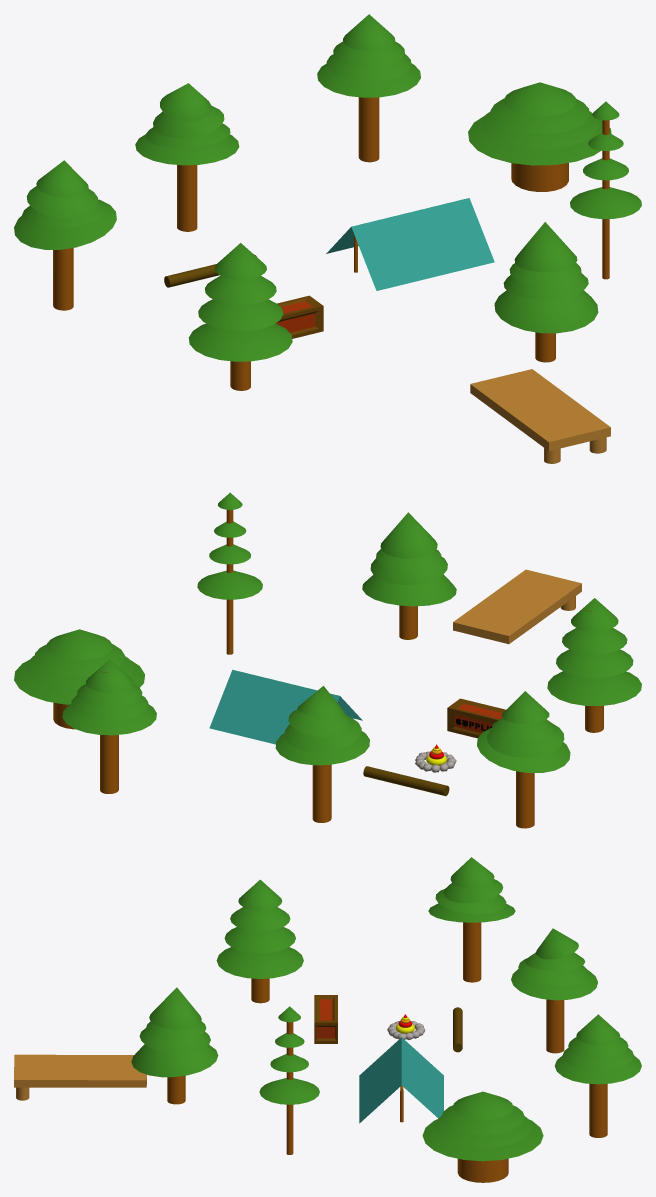
File: setting.fbx
3 views of the same model, one above another, from view 1: azimuth 30°, elevation 25°; view 2: azimuth 150°, elevation 25°; view 3: azimuth 270°, elevation 25° (orthographic). The views are drawn at different scales.
Visible parts, largest first — view 1: tentSide1, dock, leaf13, leaf23, leaf10, leaf20, leaef12, leaef8, leaf9, leaf14, leaf16, leaf8 (+23 smaller); view 2: dock, tentSide2, leaf23, leaf13, leaef12, leaf14, leaf20, leaf8, leaf11, crate, leaf1, leaf16 (+24 smaller); view 3: dock, leaf23, tentSide1, tentSide2, leaf13, leaf10, leaef12, leaef8, leaf9, leaf14, leaf16, leaf8 (+25 smaller).
Part boxes in pixels (bbox=[...]): tentSide1: bbox=[351, 198, 494, 290]; dock: bbox=[470, 369, 610, 450]; leaf13: bbox=[494, 290, 598, 333]; leaf23: bbox=[188, 323, 292, 361]; leaf10: bbox=[468, 115, 611, 165]; leaf20: bbox=[14, 199, 116, 249]; leaef12: bbox=[198, 299, 283, 330]; leaef8: bbox=[481, 111, 598, 149]; leaf9: bbox=[490, 98, 589, 134]; leaf14: bbox=[514, 222, 577, 272]; leaf16: bbox=[135, 134, 239, 165]; leaf8: bbox=[317, 63, 420, 97]; dock: bbox=[453, 569, 581, 644]; tentSide2: bbox=[209, 669, 339, 744]; leaf23: bbox=[547, 671, 641, 705]; leaf13: bbox=[362, 574, 456, 606]; leaef12: bbox=[556, 649, 633, 678]; leaf14: bbox=[380, 512, 437, 558]; leaf20: bbox=[477, 728, 570, 772]; leaf8: bbox=[62, 704, 156, 735]; leaf11: bbox=[46, 629, 112, 660]; crate: bbox=[447, 698, 505, 738]; leaf1: bbox=[197, 570, 262, 599]; leaf16: bbox=[275, 731, 369, 765]; dock: bbox=[14, 1054, 146, 1087]; leaf23: bbox=[216, 947, 303, 978]; tentSide1: bbox=[359, 1037, 401, 1123]; tentSide2: bbox=[401, 1037, 443, 1118]; leaf13: bbox=[131, 1044, 218, 1077]; leaf10: bbox=[422, 1119, 543, 1161]; leaef12: bbox=[224, 927, 295, 953]; leaef8: bbox=[433, 1116, 532, 1147]; leaf9: bbox=[441, 1105, 524, 1134]; leaf14: bbox=[149, 987, 201, 1029]; leaf16: bbox=[511, 968, 597, 1000]; leaf8: bbox=[554, 1055, 641, 1084].
Size of the model in its own units: 24.16 by 7.5 by 26.71.
